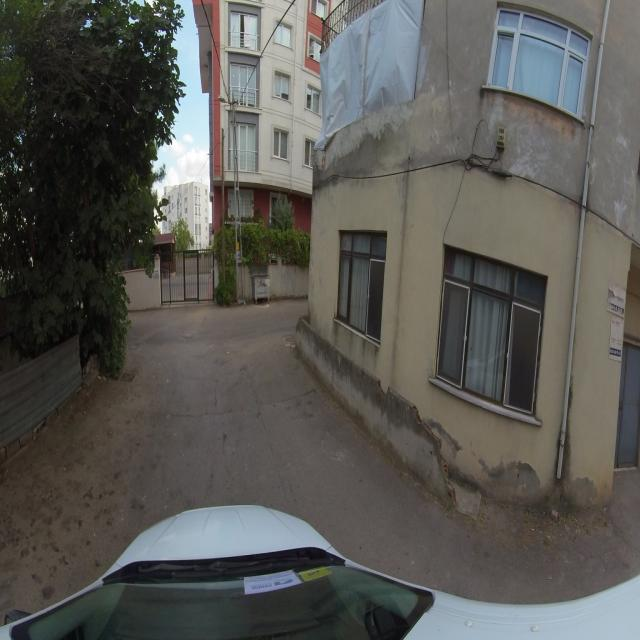Utility Pole Information Plate: (236, 242, 239, 250)
